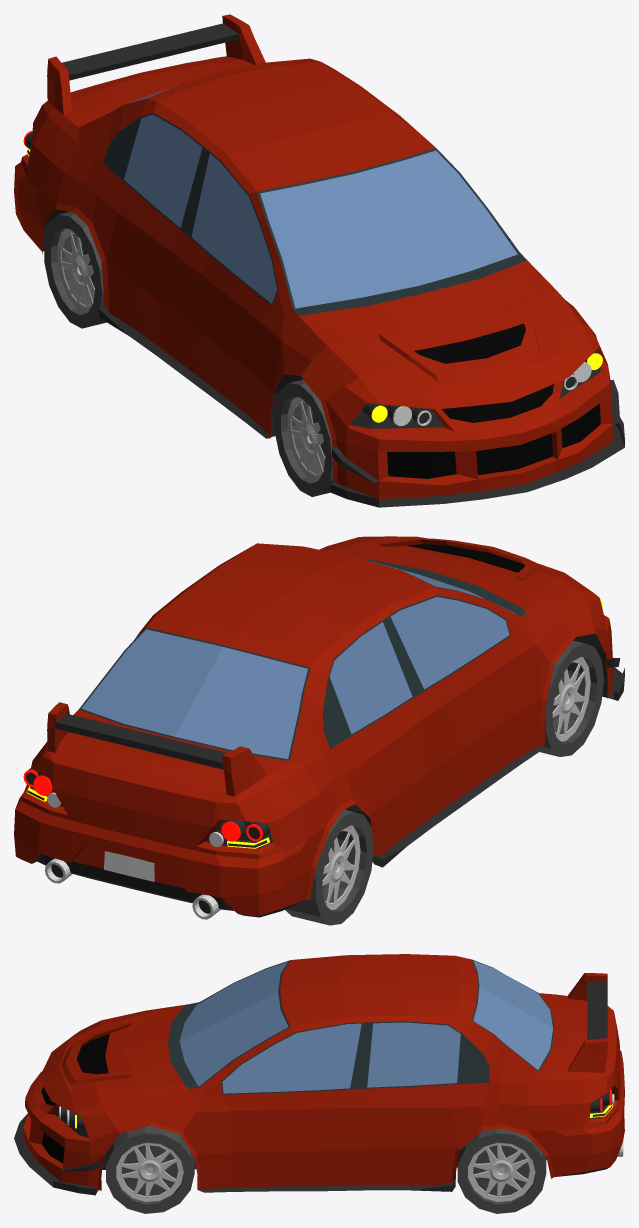
The model's file is mitsubishi.fbx.
3 views of the same model, one above another, from view 1: azimuth 30°, elevation 25°; view 2: azimuth 150°, elevation 25°; view 3: azimuth 270°, elevation 25° (orthographic). The views are drawn at different scales.
Visible parts, largest first — view 1: car_mitsubishi, wheel_br_mitsubishi, wheel_fr_mitsubishi; view 2: car_mitsubishi, wheel_br_mitsubishi, wheel_fr_mitsubishi; view 3: car_mitsubishi, wheel_fl_mitsubishi, wheel_bl_mitsubishi.
Part boxes in pixels (left/top/right/bottom): car_mitsubishi: left=14, top=14, right=624, bottom=507; wheel_br_mitsubishi: left=44, top=212, right=106, bottom=328; wheel_fr_mitsubishi: left=274, top=379, right=333, bottom=496; car_mitsubishi: left=14, top=536, right=624, bottom=919; wheel_br_mitsubishi: left=285, top=809, right=373, bottom=925; wheel_fr_mitsubishi: left=540, top=640, right=603, bottom=756; car_mitsubishi: left=14, top=954, right=624, bottom=1195; wheel_fl_mitsubishi: left=106, top=1125, right=194, bottom=1213; wheel_bl_mitsubishi: left=457, top=1128, right=546, bottom=1213.
Size of the model in its own units: 204 by 162 by 490.
